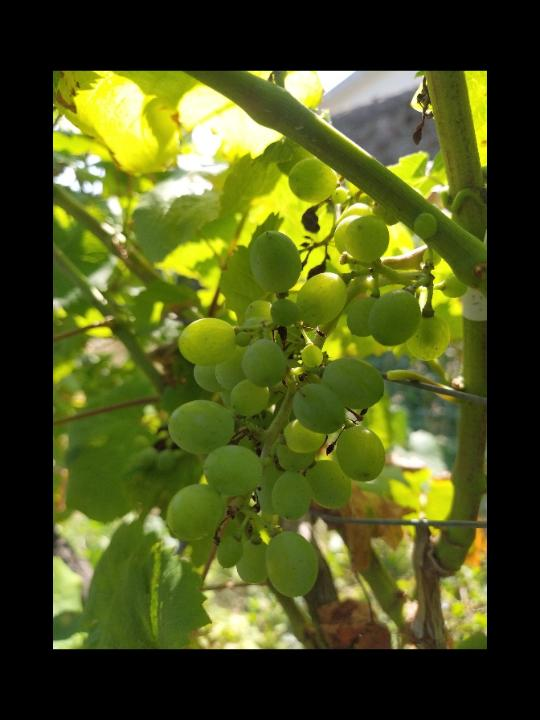grape: (163, 158, 470, 603)
